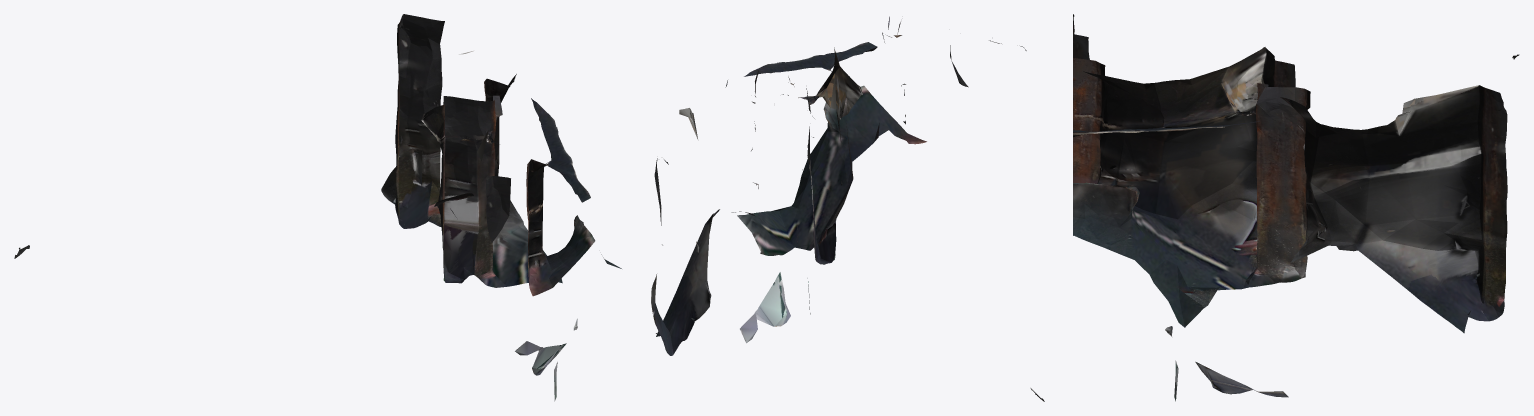
3 views of the same model, side by side, from view 1: azimuth 30°, elevation 25°; view 2: azimuth 150°, elevation 25°; view 3: azimuth 270°, elevation 25° (orthographic). The views are drawn at different scales.
Size of the model in its own units: 3.79 by 2.49 by 3.29.
Materials: 2 (2 with a texture image).
